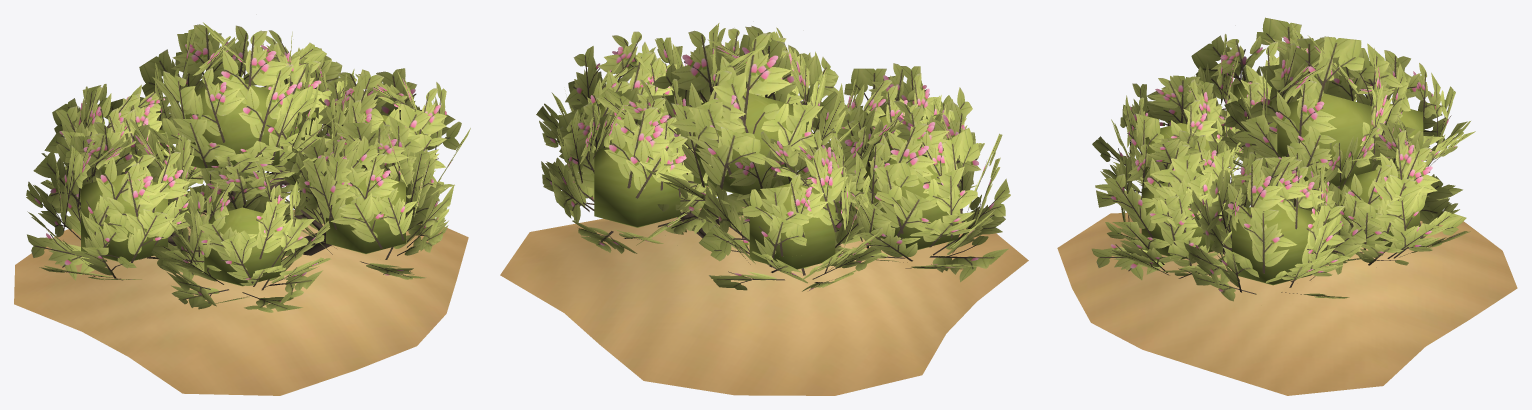
The model's file is SM_Tripo_DesertCamelthorn.glb.
3 renders of one model, left to right at view 1: azimuth 30°, elevation 25°; view 2: azimuth 150°, elevation 25°; view 3: azimuth 270°, elevation 25°, orthographic. The views are drawn at different scales.
Parts seen in each view (by area): view 1: SM_Tripo_DesertCamelthorn_LOD0; view 2: SM_Tripo_DesertCamelthorn_LOD0; view 3: SM_Tripo_DesertCamelthorn_LOD0.
Boxes of the visible parts, bbox=[...] form: SM_Tripo_DesertCamelthorn_LOD0: bbox=[14, 22, 470, 395]; SM_Tripo_DesertCamelthorn_LOD0: bbox=[500, 23, 1028, 395]; SM_Tripo_DesertCamelthorn_LOD0: bbox=[1057, 17, 1517, 395].
Bounding box in the file's own units: 1.36 × 0.7395 × 1.24.
Materials: 1 (1 with a texture image).
